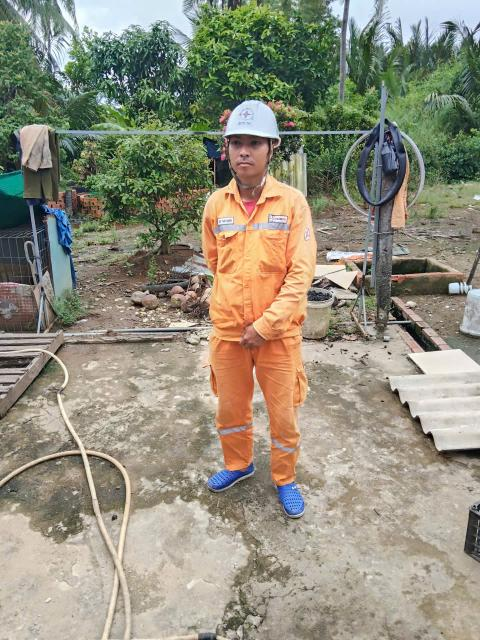helmet: (219, 98, 297, 152)
shoes: (190, 448, 260, 490), (268, 466, 312, 528)
